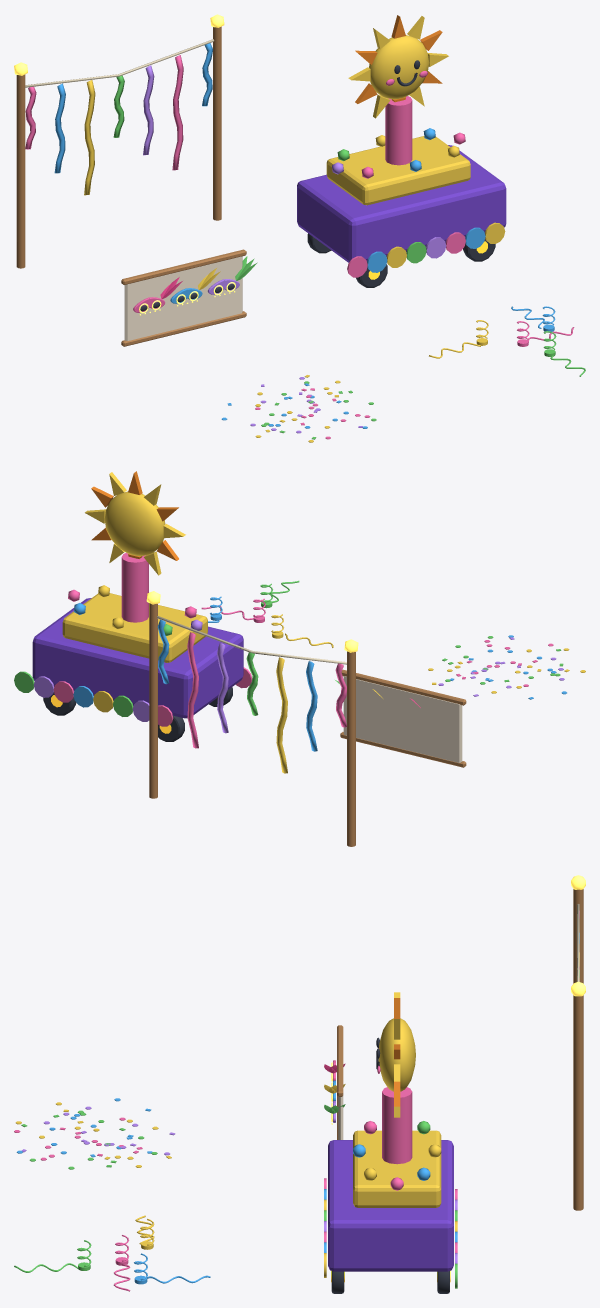
File: carnaval.glb
The picture shows the model from 3 angles, top to bottom: view 1: azimuth 30°, elevation 25°; view 2: azimuth 150°, elevation 25°; view 3: azimuth 270°, elevation 25°; orthographic projection. The views are drawn at different scales.
Parts seen in each view (by area): view 1: carro-alegorico, faixas, mascaras, sol-do-carro, serpentinas, confetes; view 2: carro-alegorico, faixas, mascaras, sol-do-carro, serpentinas, confetes; view 3: carro-alegorico, faixas, serpentinas, confetes, mascaras, sol-do-carro.
Part boxes in pixels (x1,y1,x2,y2): carro-alegorico: (297, 35, 506, 287); faixas: (14, 14, 224, 268); mascaras: (121, 249, 257, 346); sol-do-carro: (348, 15, 448, 118); serpentinas: (429, 306, 585, 376); confetes: (221, 375, 376, 442); carro-alegorico: (14, 491, 252, 741); faixas: (146, 591, 358, 846); mascaras: (335, 669, 466, 767); sol-do-carro: (85, 471, 185, 575); serpentinas: (201, 580, 333, 647); confetes: (428, 635, 585, 699); carro-alegorico: (324, 1018, 457, 1293); faixas: (571, 875, 585, 1210); serpentinas: (14, 1215, 210, 1291); confetes: (14, 1098, 175, 1169); mascaras: (324, 1025, 345, 1139); sol-do-carro: (394, 992, 400, 1117).
Size of the model in its own units: 4.03 by 2.32 by 4.54.
